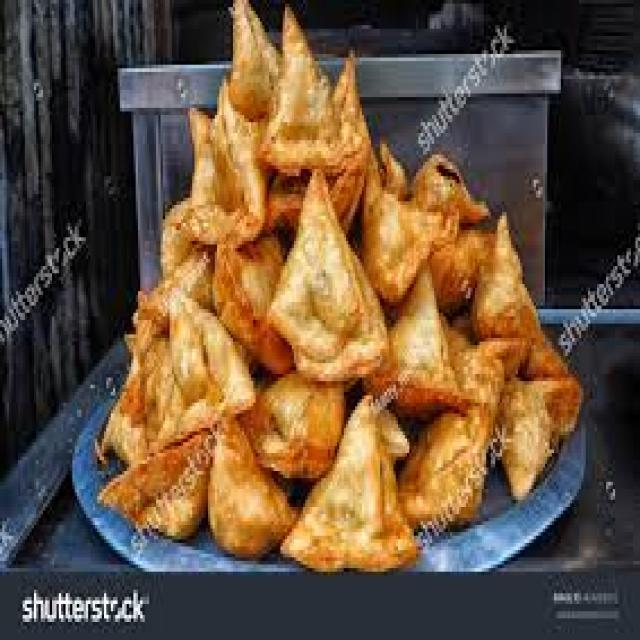SAMOSA: (259, 168, 396, 383), (278, 389, 416, 570), (400, 358, 501, 526), (156, 276, 256, 441)
